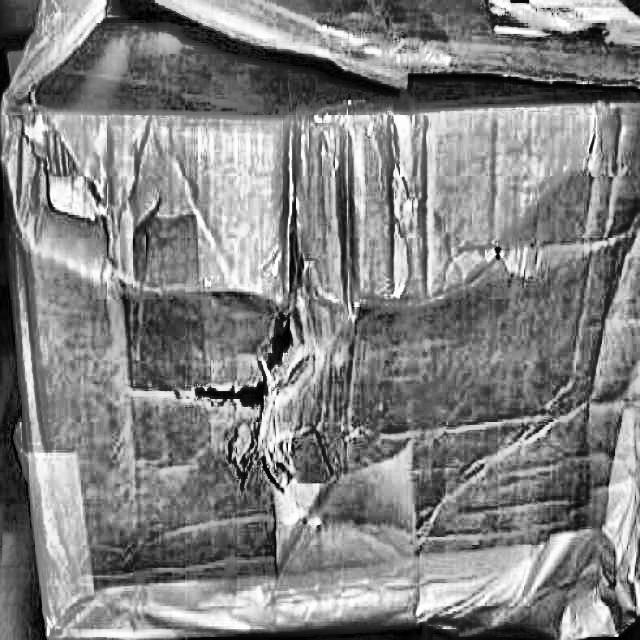box: (0, 0, 639, 639)
hole: (178, 296, 326, 436)
